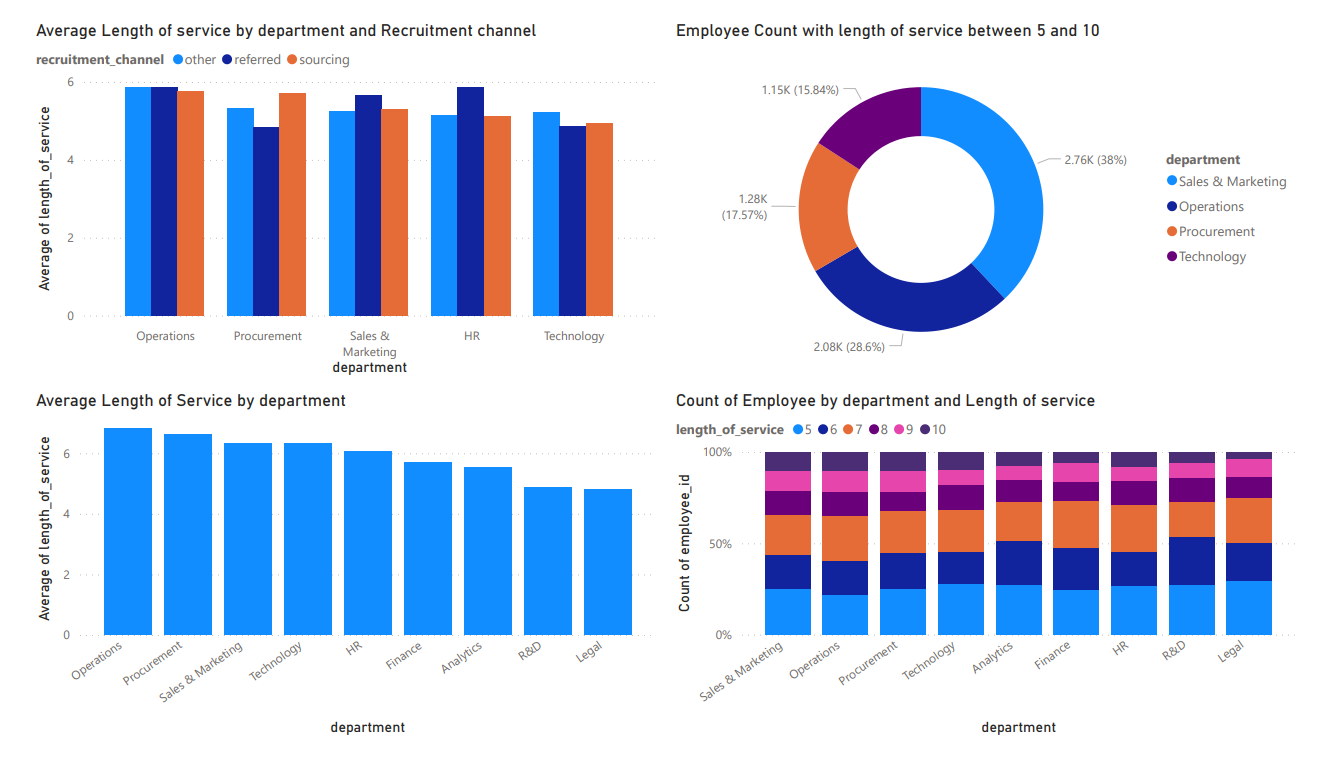

The page's visual inventory and layout, read from the dashboard file:
{"tool":"powerbi","page":{"name":"Employee Retention","canvas":[1280,720],"ordinal":3},"visuals":[{"type":"clusteredColumnChart","title":"Average Length of service by department and Recruitment channel","fields":{"Category":["cleaned_dataset.department"],"Y":["Avg(cleaned_dataset.length_of_service)"],"Series":["cleaned_dataset.recruitment_channel"]},"box":[9.7,0,630.3,359.9],"z":0},{"type":"clusteredColumnChart","title":"Average Length of Service by department","fields":{"Y":["Avg(cleaned_dataset.length_of_service)"],"Category":["cleaned_dataset.department"]},"box":[10,370,630,350],"z":1000},{"type":"donutChart","title":"Employee Count with length of service between 5 and 10","fields":{"Category":["cleaned_dataset.department"],"Y":["CountNonNull(cleaned_dataset.employee_id)"]},"box":[650,0,630,360],"z":2000},{"type":"hundredPercentStackedColumnChart","title":"Count of Employee by department and Length of service","fields":{"Y":["CountNonNull(cleaned_dataset.employee_id)"],"Category":["cleaned_dataset.department"],"Series":["cleaned_dataset.length_of_service"]},"box":[650,370,630,350],"z":3000}]}

Visuals, with their boxes in screenshot pixels (x1, y1, x2, y2), scaled from the page's 1280x720 canvas onto the 1321x763 screenshot:
"Average Length of service by department and Recruitment channel" clusteredColumnChart: <bbox>10, 0, 660, 381</bbox>
"Average Length of Service by department" clusteredColumnChart: <bbox>10, 392, 660, 762</bbox>
"Employee Count with length of service between 5 and 10" donutChart: <bbox>671, 0, 1320, 382</bbox>
"Count of Employee by department and Length of service" hundredPercentStackedColumnChart: <bbox>671, 392, 1320, 762</bbox>
